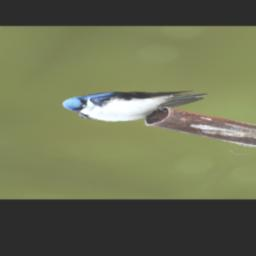Swallow: (52, 72, 212, 134)
